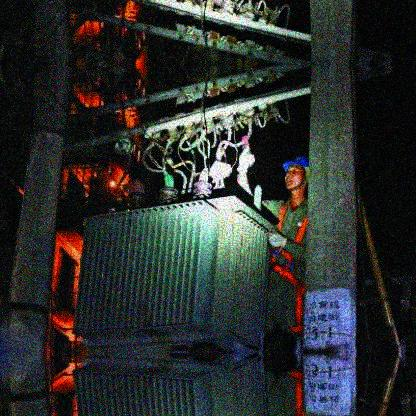helmet: (278, 156, 309, 193)
